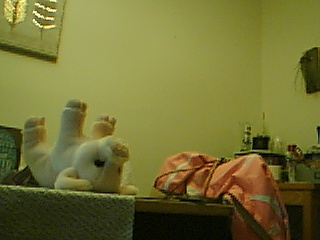piggy: (22, 97, 141, 197)
